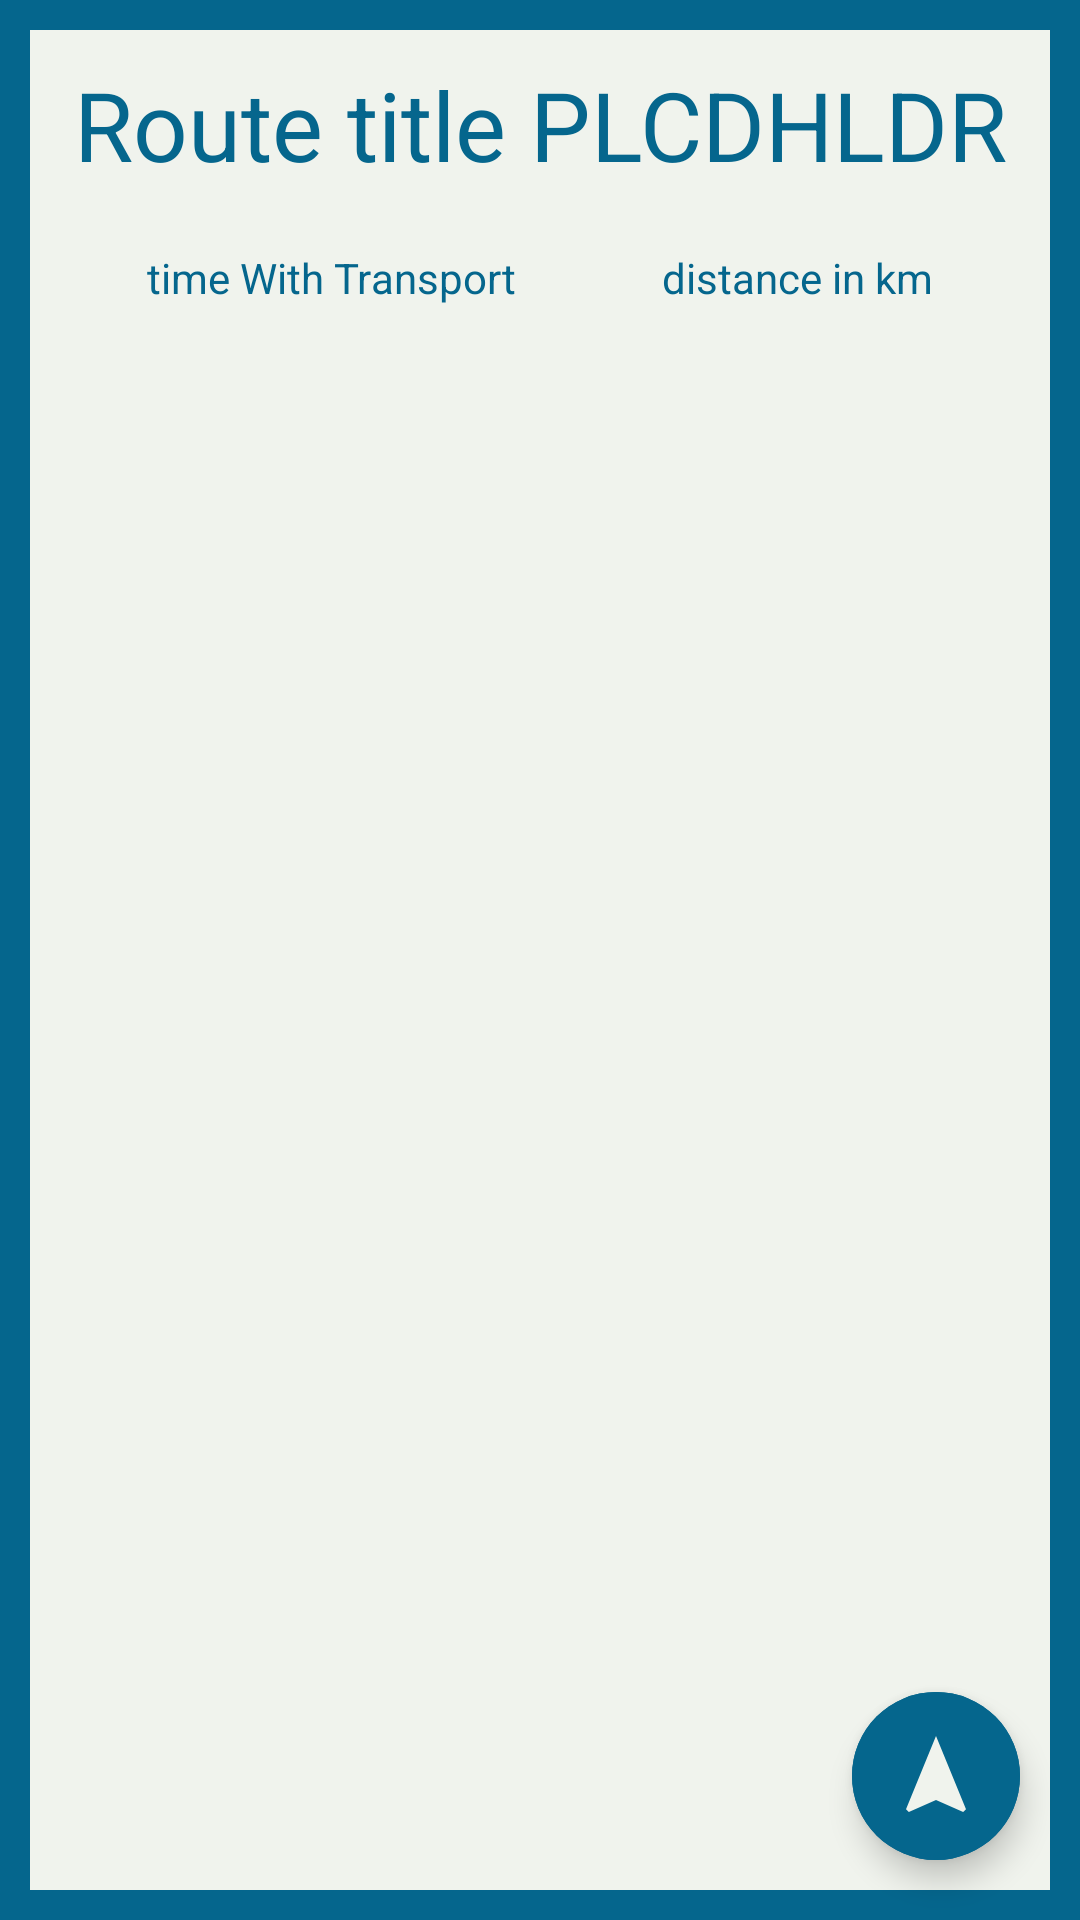

Screen size 1080px×1920px. Icon name, then its box in pixels as (x1, y1, x2, y2):
nav: (852, 1692, 1020, 1860)
